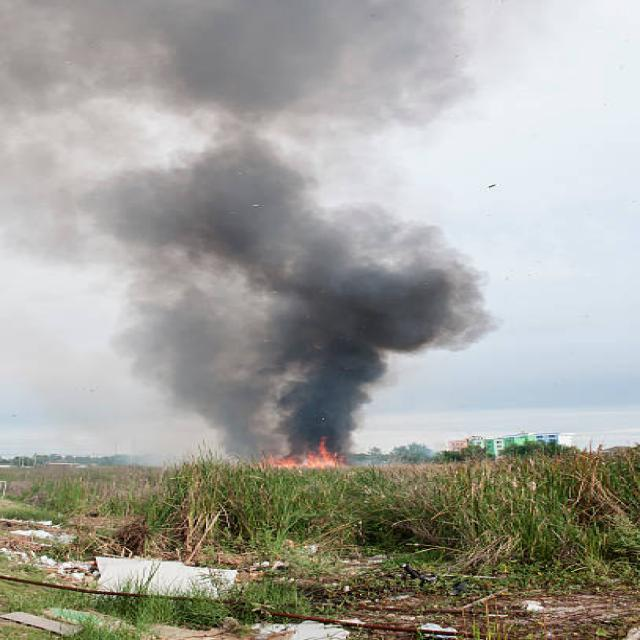Fire: (246, 432, 356, 466)
Smoke: (0, 0, 513, 434)
